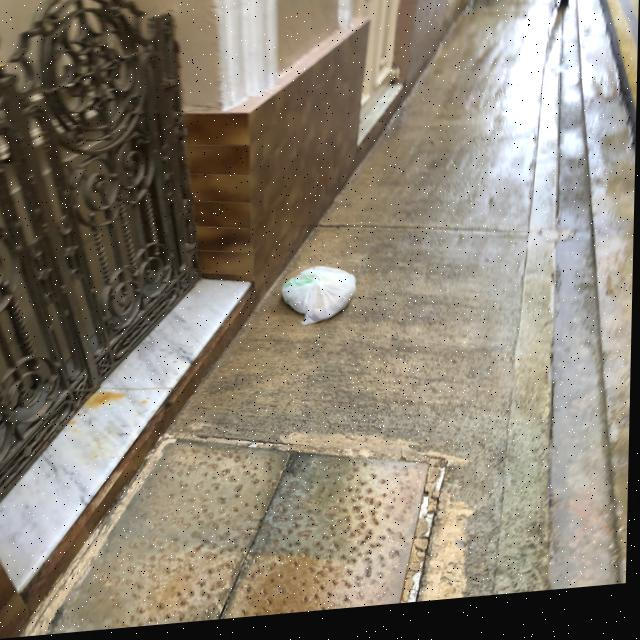Organic Waste -White Bag-: (281, 271, 359, 333)
